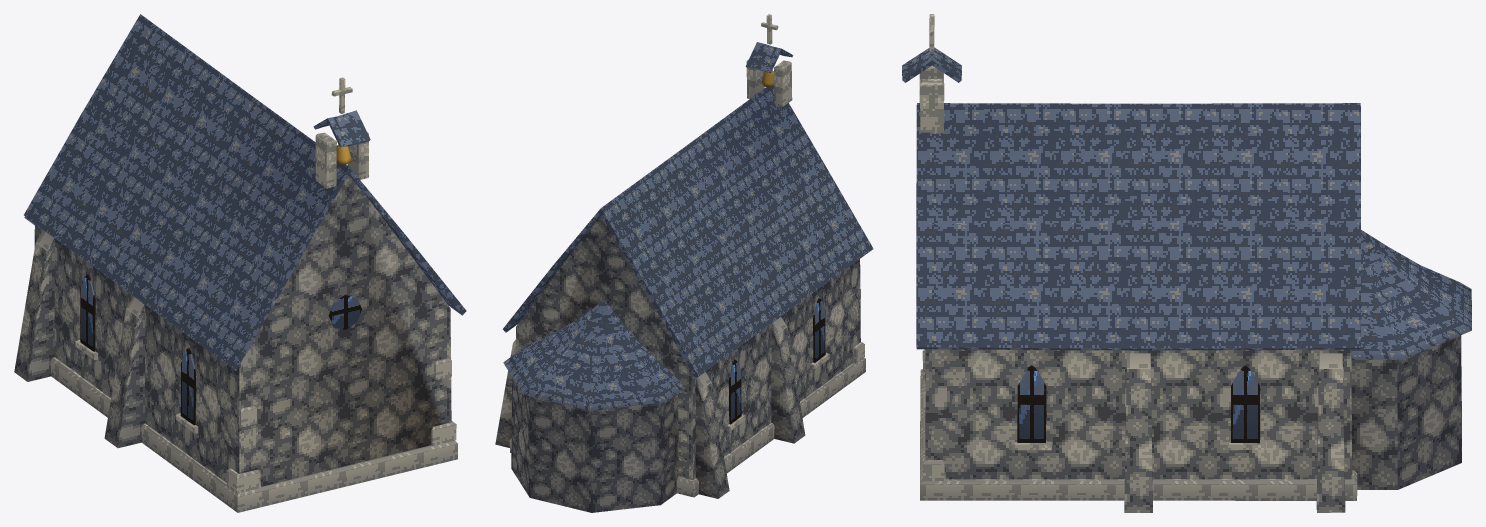
The model's file is vlg.chapel__doorway.glb.
The picture shows the model from 3 angles, left to right: view 1: azimuth 30°, elevation 25°; view 2: azimuth 150°, elevation 25°; view 3: azimuth 270°, elevation 25°; orthographic projection. The views are drawn at different scales.
Visible parts, largest first — view 1: kit_roof, kit_walls, kit_stonework, kit_fittings; view 2: kit_roof, kit_walls, kit_stonework, kit_fittings; view 3: kit_roof, kit_walls, kit_stonework, kit_fittings.
Part boxes in pixels (<box>): kit_roof: <box>24,14,466,370</box>; kit_walls: <box>34,174,451,486</box>; kit_stonework: <box>14,132,457,512</box>; kit_fittings: <box>75,77,361,433</box>; kit_roof: <box>503,42,873,410</box>; kit_walls: <box>511,215,860,512</box>; kit_stonework: <box>495,59,865,498</box>; kit_fittings: <box>727,14,829,431</box>; kit_roof: <box>902,47,1471,359</box>; kit_walls: <box>925,335,1461,489</box>; kit_stonework: <box>919,65,1357,512</box>; kit_fittings: <box>929,14,1265,450</box>.
Bounding box in the file's own units: 6.91 × 9.98 × 12.
5 materials, 4 textured.
